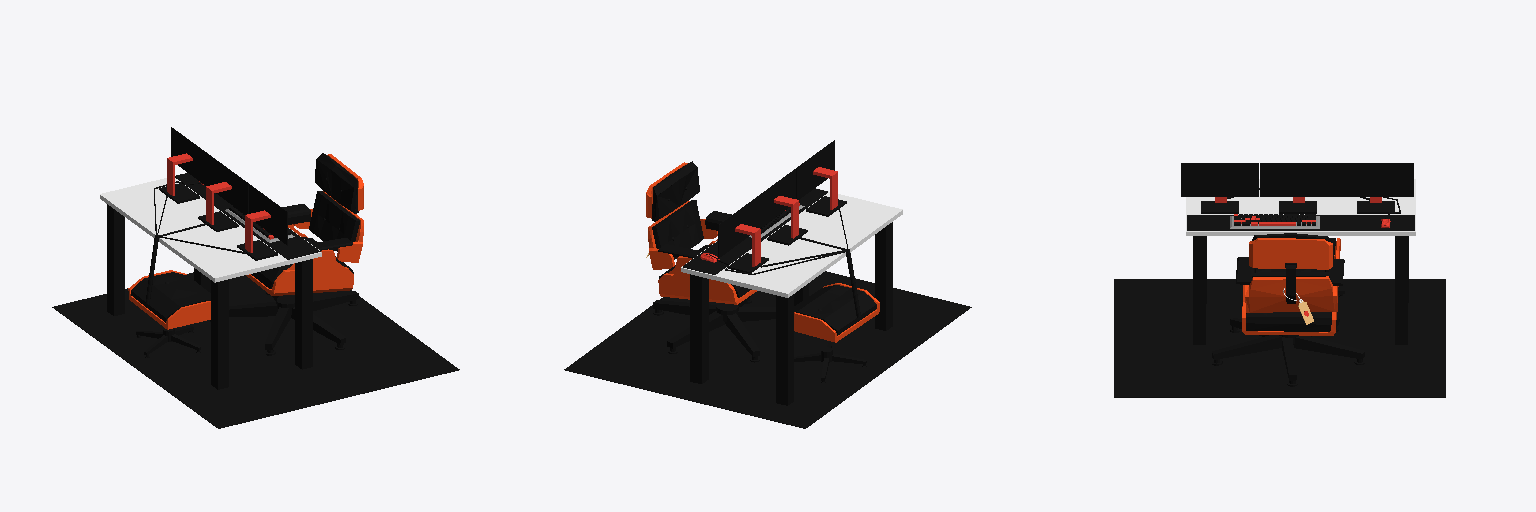
The picture shows the model from 3 angles: view 1: azimuth 30°, elevation 25°; view 2: azimuth 150°, elevation 25°; view 3: azimuth 270°, elevation 25°; orthographic projection.
Parts seen in each view (by area): view 1: group[number redacted], group[number redacted], group[number redacted], group[number redacted], group[number redacted], group[number redacted], group[number redacted], group[number redacted], group[number redacted], group[number redacted]; view 2: group[number redacted], group[number redacted], group[number redacted], group[number redacted], group[number redacted], group[number redacted], group[number redacted], group[number redacted], group[number redacted], group[number redacted]; view 3: group[number redacted], group[number redacted], group[number redacted], group[number redacted], group[number redacted], group[number redacted], group[number redacted], group[number redacted], group[number redacted], group[number redacted].
Part boxes in pixels (bbox=[...]): group[number redacted]: bbox=[52, 272, 459, 428]; group[number redacted]: bbox=[128, 153, 363, 357]; group[number redacted]: bbox=[100, 173, 321, 282]; group[number redacted]: bbox=[237, 184, 287, 260]; group[number redacted]: bbox=[159, 127, 209, 203]; group[number redacted]: bbox=[198, 155, 248, 231]; group[number redacted]: bbox=[211, 279, 228, 389]; group[number redacted]: bbox=[295, 259, 312, 369]; group[number redacted]: bbox=[107, 204, 124, 315]; group[number redacted]: bbox=[175, 173, 320, 259]; group[number redacted]: bbox=[564, 271, 971, 428]; group[number redacted]: bbox=[646, 161, 879, 382]; group[number redacted]: bbox=[681, 188, 902, 297]; group[number redacted]: bbox=[718, 197, 768, 272]; group[number redacted]: bbox=[690, 274, 708, 383]; group[number redacted]: bbox=[757, 169, 807, 245]; group[number redacted]: bbox=[796, 140, 846, 216]; group[number redacted]: bbox=[776, 294, 793, 405]; group[number redacted]: bbox=[875, 222, 892, 330]; group[number redacted]: bbox=[683, 188, 827, 274]; group[number redacted]: bbox=[1114, 279, 1445, 397]; group[number redacted]: bbox=[1212, 233, 1364, 386]; group[number redacted]: bbox=[1186, 179, 1415, 235]; group[number redacted]: bbox=[1181, 163, 1258, 213]; group[number redacted]: bbox=[1260, 163, 1336, 213]; group[number redacted]: bbox=[1337, 163, 1413, 213]; group[number redacted]: bbox=[1187, 215, 1414, 230]; group[number redacted]: bbox=[1193, 236, 1205, 344]; group[number redacted]: bbox=[1395, 236, 1407, 344]; group[number redacted]: bbox=[1230, 214, 1319, 228].
Bounding box in the file's own units: 5.28 × 3.52 × 6.3.